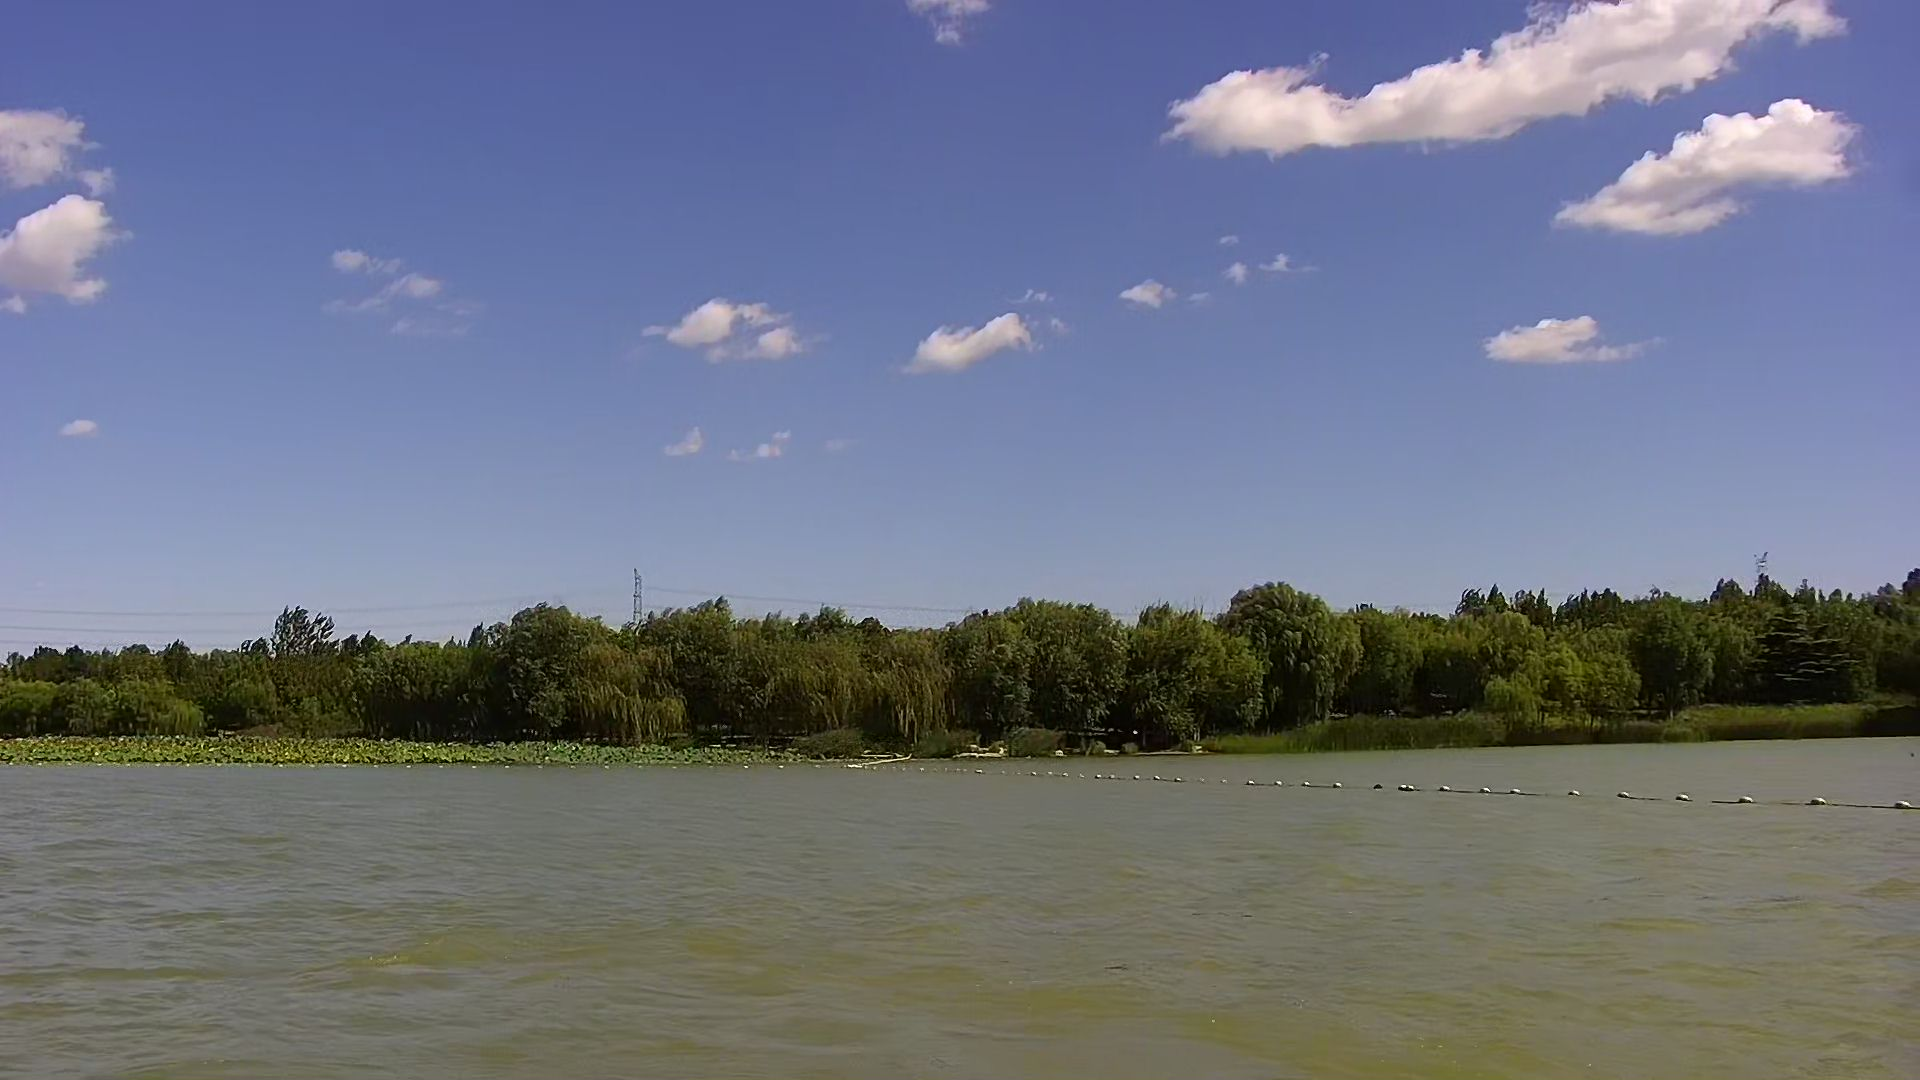buoy: (1727, 769, 1774, 820), (1884, 774, 1917, 825), (1799, 774, 1838, 816), (1663, 777, 1701, 810)
